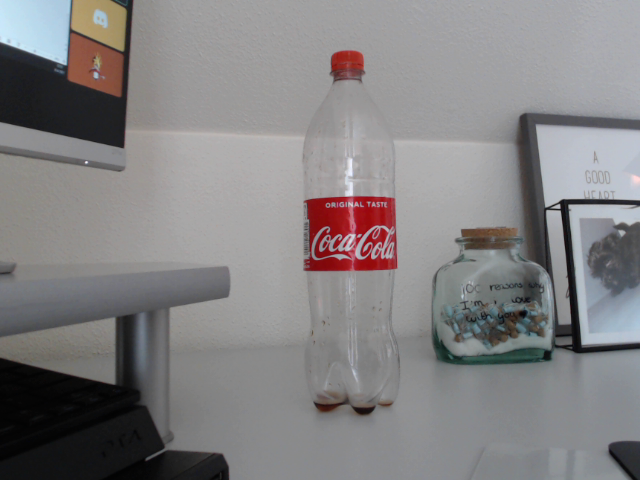bottle: (300, 50, 400, 415)
